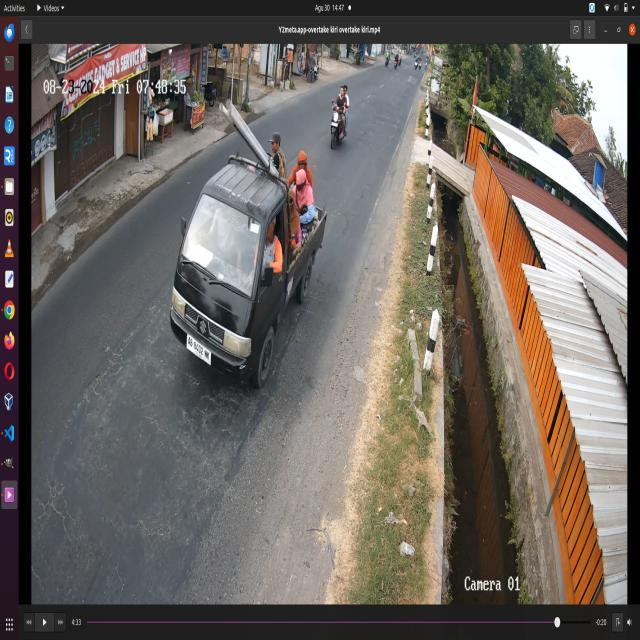person_without_seatbelt: (249, 203, 285, 300), (205, 190, 241, 270)
